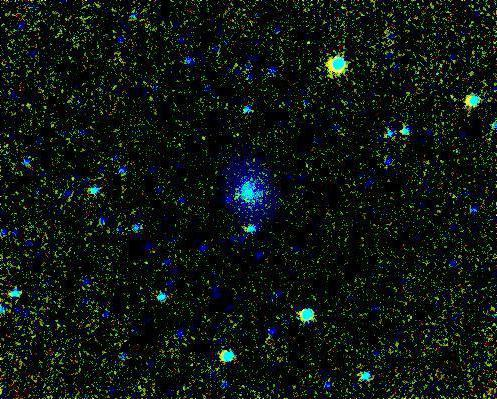star: (216, 183, 246, 213)
